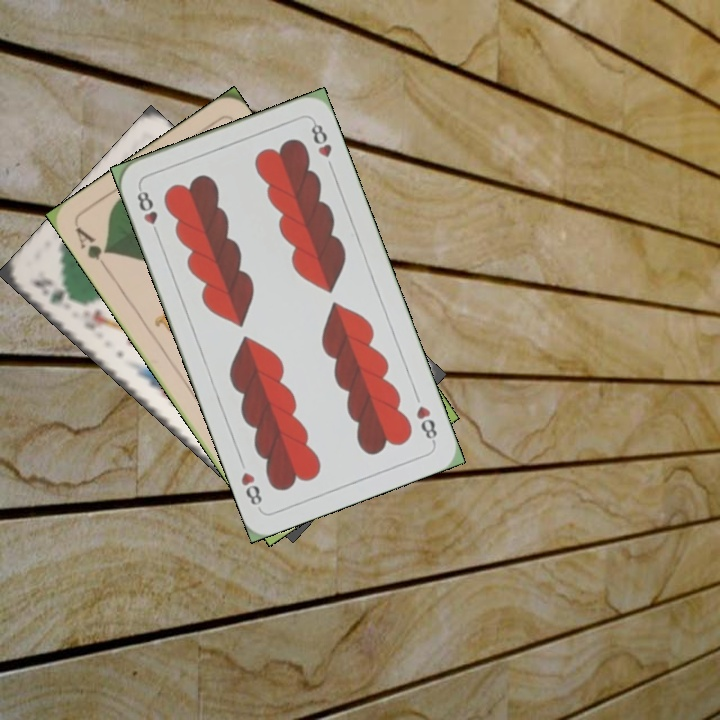GA: (70, 222, 112, 274)
GK: (30, 274, 81, 308)
H8: (133, 183, 163, 240), (412, 401, 440, 446)
